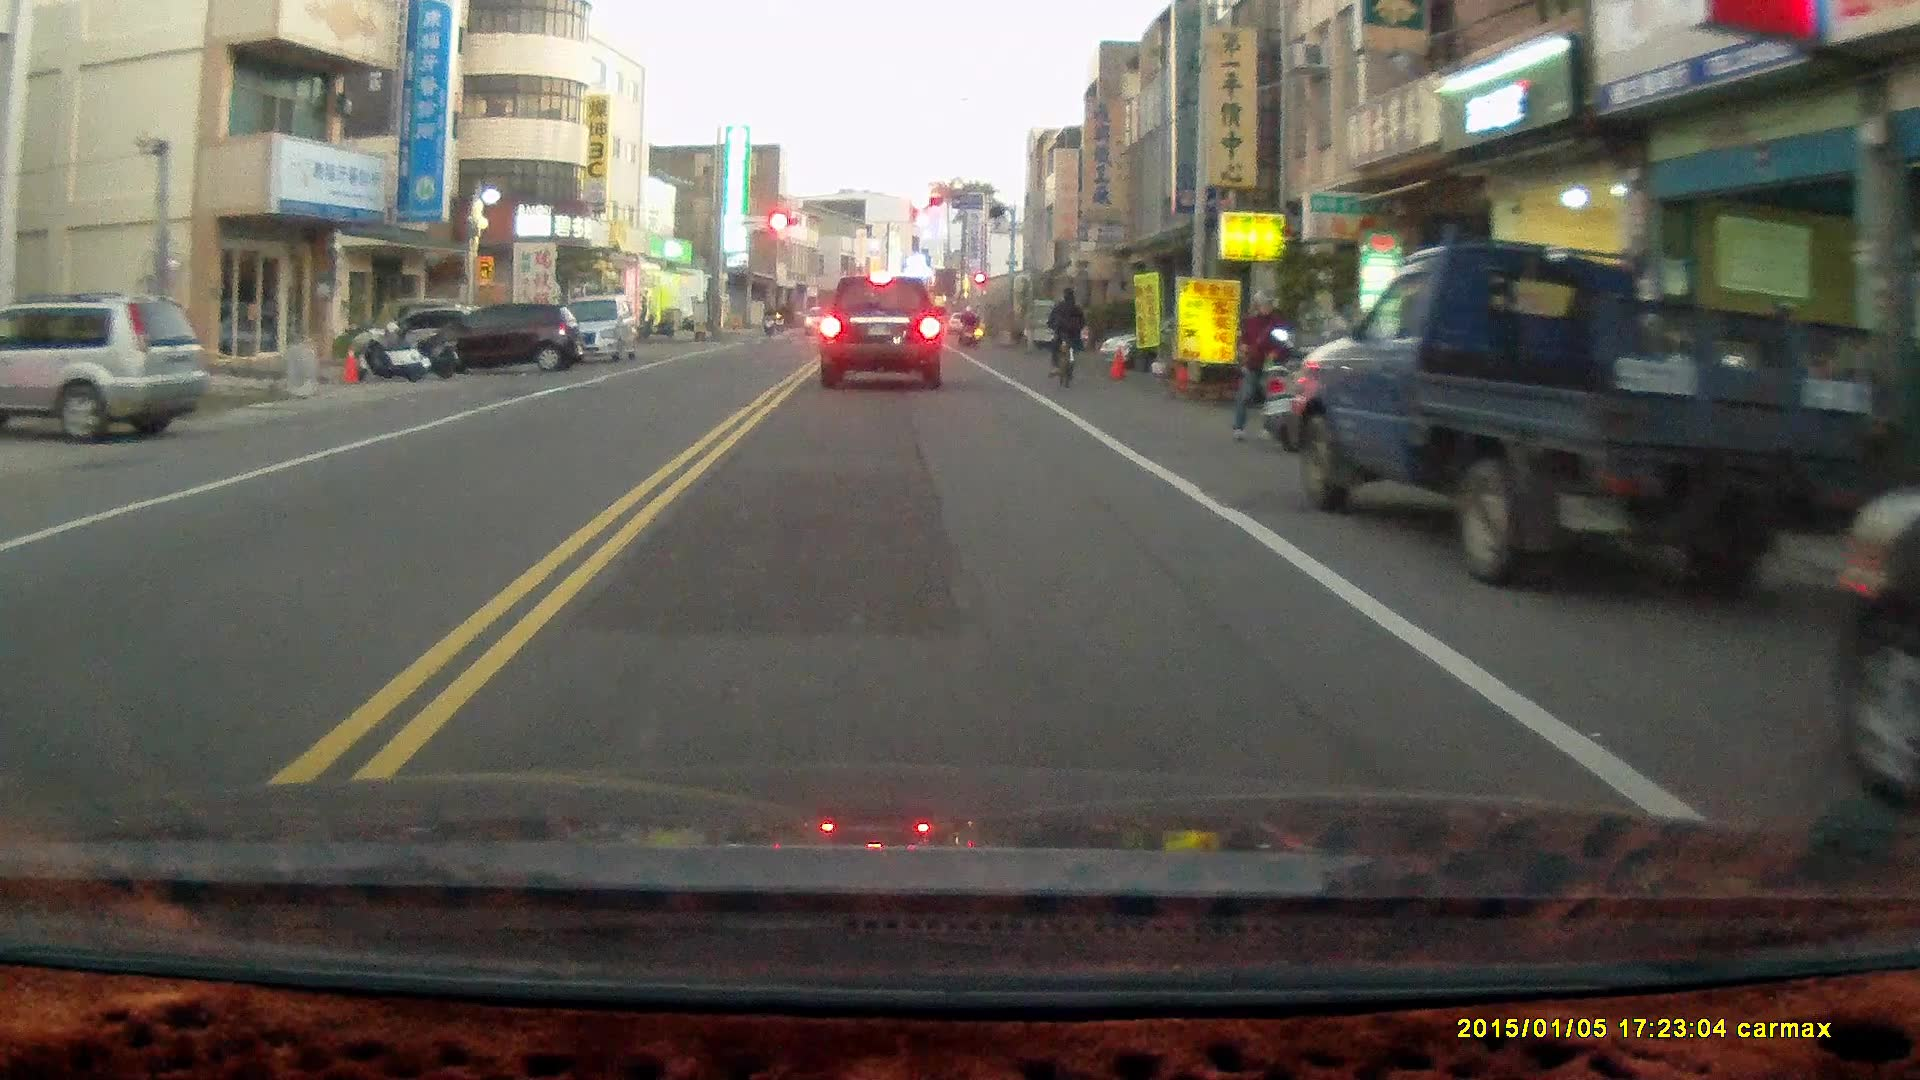pedestrian: (1229, 287, 1283, 444)
rider: (1045, 284, 1084, 392)
vehicle: (1276, 231, 1867, 590), (1, 296, 206, 443), (817, 270, 946, 394), (431, 300, 585, 372), (530, 293, 646, 366)
